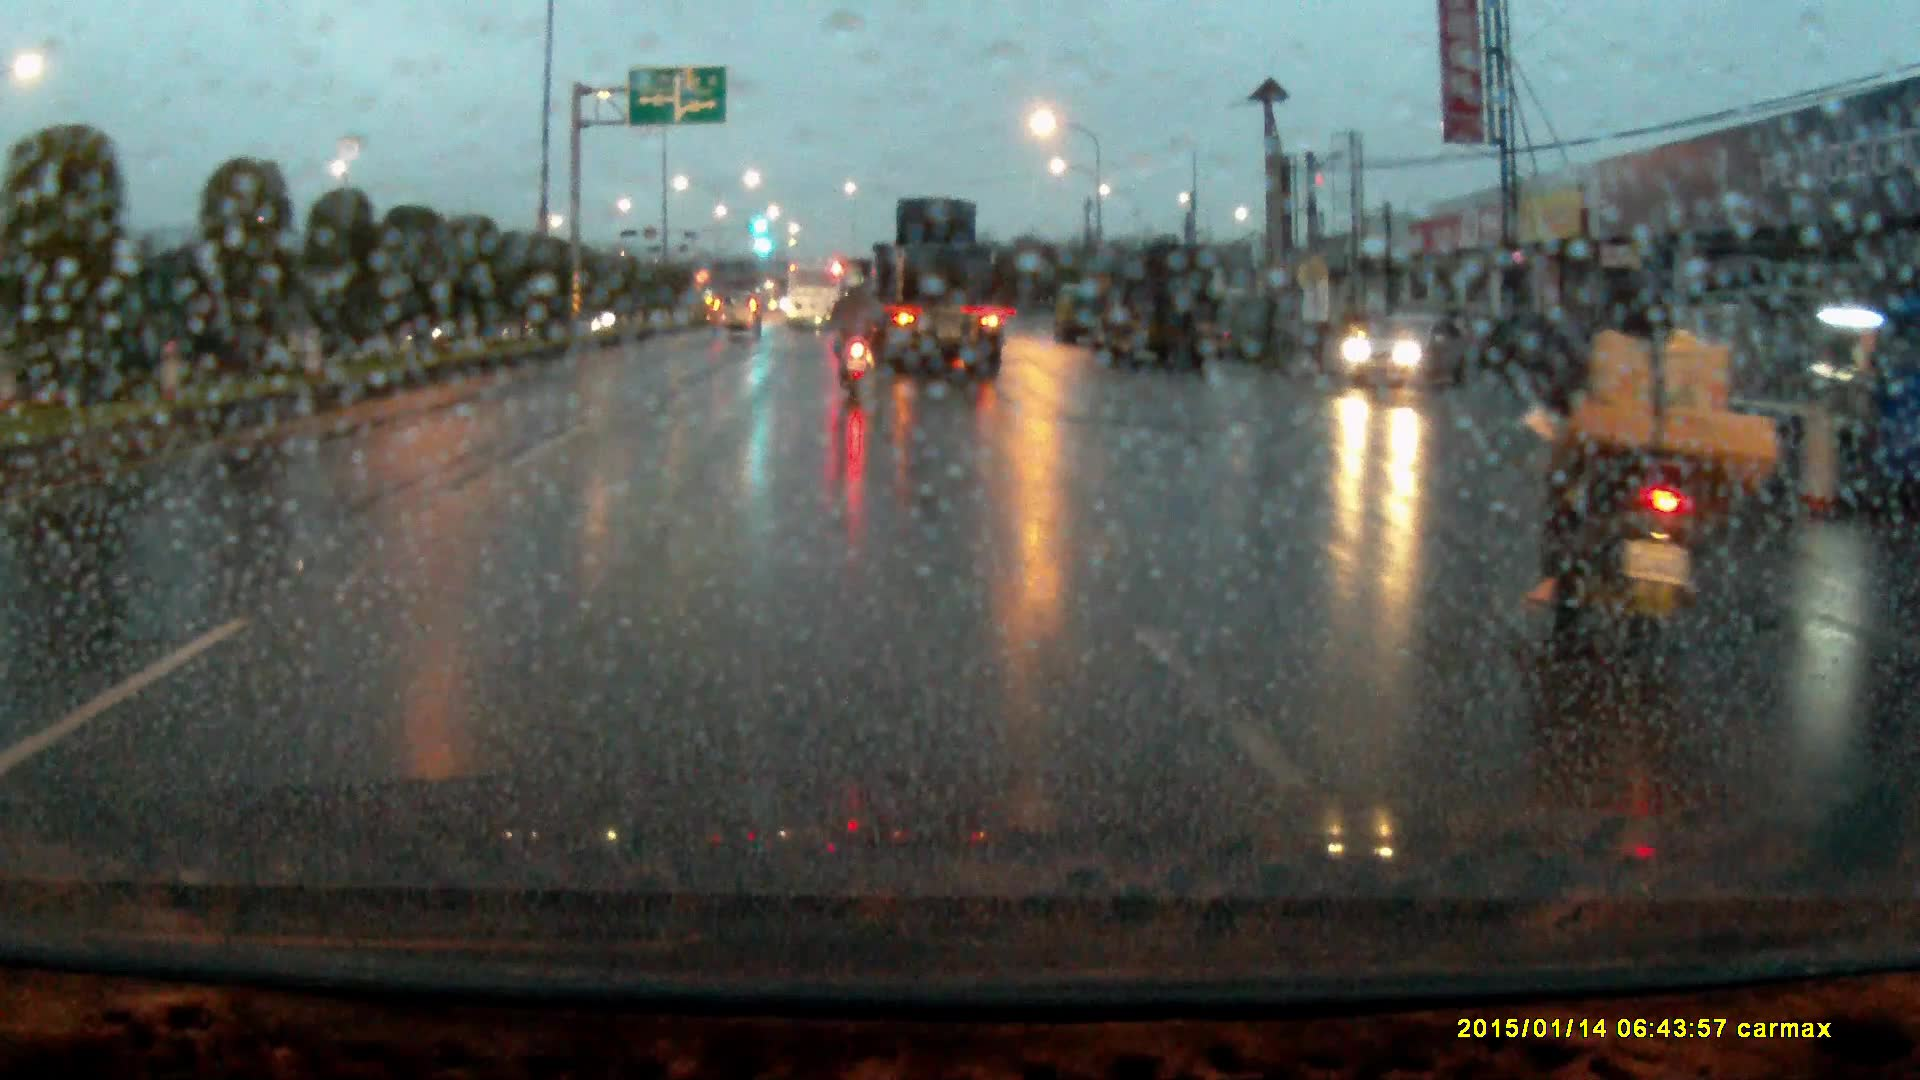rider: (1517, 249, 1799, 669), (830, 270, 885, 395)
vehicle: (1711, 283, 1920, 510), (861, 196, 1000, 375), (1099, 242, 1232, 371), (1341, 312, 1464, 389), (787, 263, 852, 332), (1054, 280, 1106, 341), (711, 287, 764, 338)
